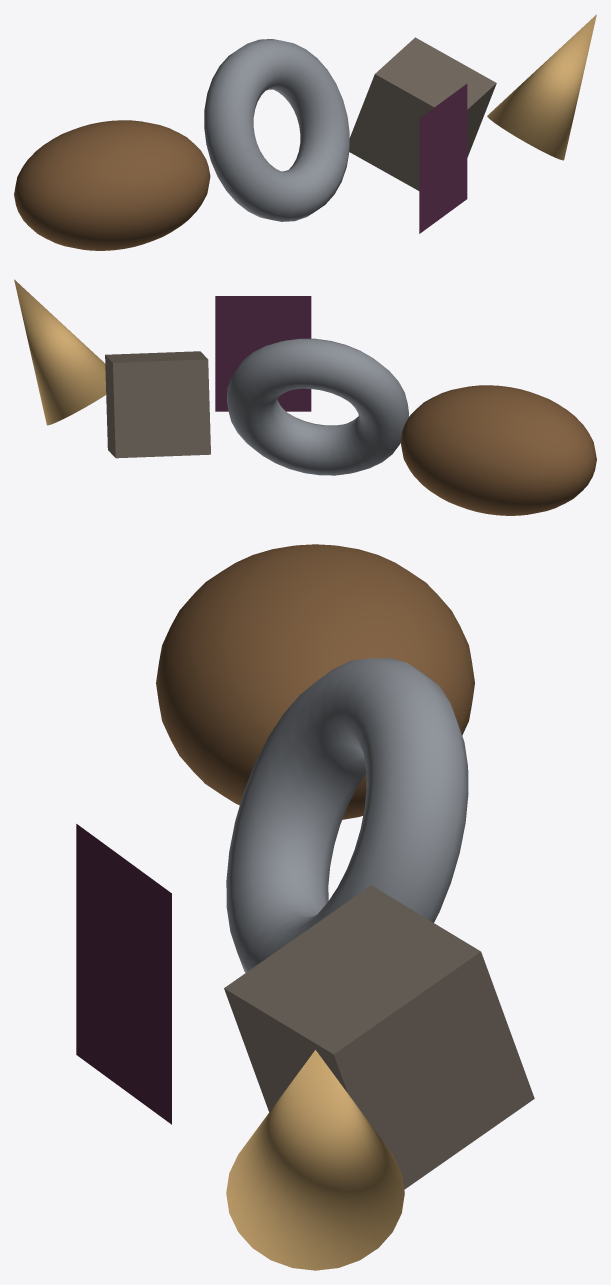
The model's file is shapes.glb.
3 views of the same model, one above another, from view 1: azimuth 30°, elevation 25°; view 2: azimuth 150°, elevation 25°; view 3: azimuth 270°, elevation 25° (orthographic). The views are drawn at different scales.
Parts seen in each view (by area): view 1: Ball, Ring, Box, Spike, Card; view 2: Ball, Ring, Box, Card, Spike; view 3: Box, Ring, Ball, Spike, Card.
Part boxes in pixels (x1,y1,x2,y2): Ball: (14,120,210,250); Ring: (204,39,349,221); Box: (349,37,496,190); Spike: (487,14,596,160); Card: (419,84,467,233); Ball: (400,385,596,515); Ring: (227,338,408,475); Box: (105,351,210,458); Card: (215,296,311,411); Spike: (14,279,106,425); Box: (224,885,534,1189); Ring: (226,658,468,972); Ball: (156,544,474,819); Spike: (226,1050,404,1270); Card: (76,824,171,1124).
Bounding box in the file's own units: 4.16 × 1.12 × 1.44.
